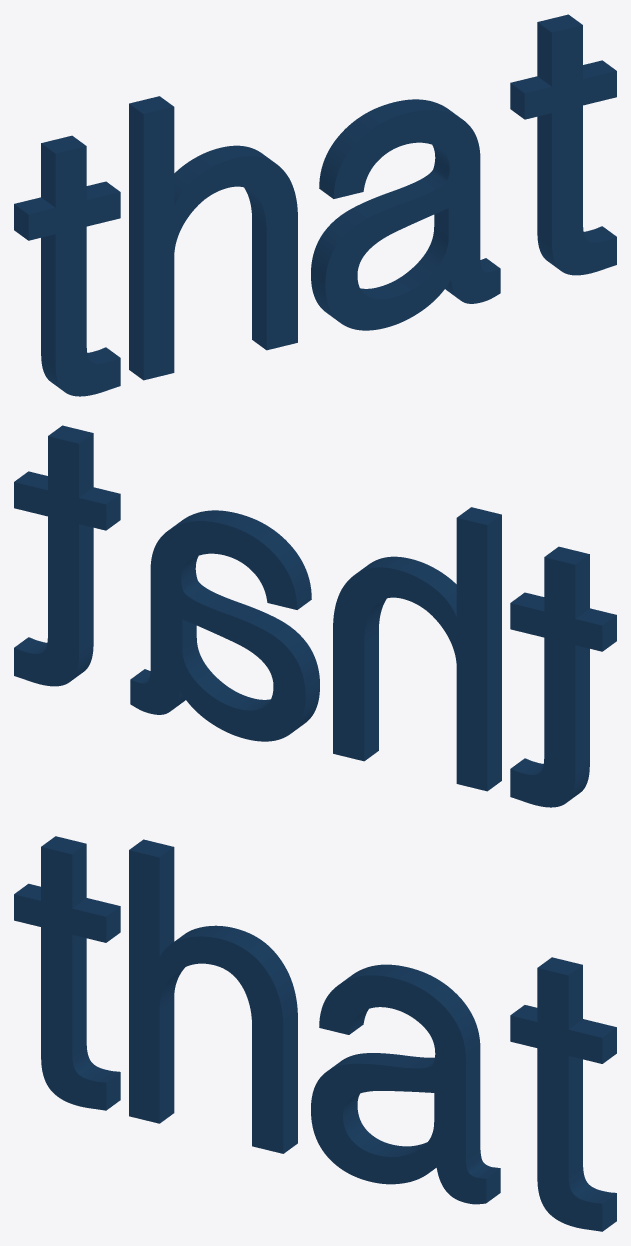
Rendered from that.glb.
The picture shows the model from 3 angles, top to bottom: view 1: azimuth 30°, elevation 25°; view 2: azimuth 150°, elevation 25°; view 3: azimuth 330°, elevation 25°; orthographic projection.
Parts seen in each view (by area): view 1: mesh_0; view 2: mesh_0; view 3: mesh_0.
Part boxes in pixels (x1,y1,x2,y2): mesh_0: (14,14,616,396); mesh_0: (14,425,616,807); mesh_0: (14,836,616,1231).
Bounding box in the file's own units: 2.34 × 1.04 × 0.1001.
